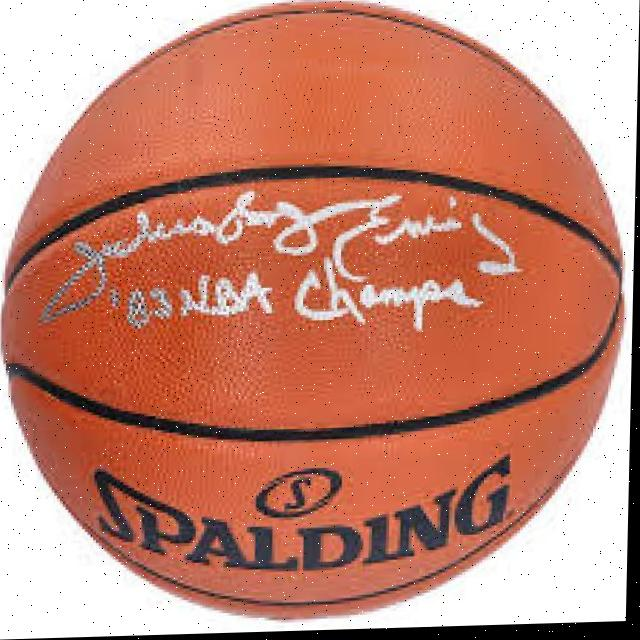Basketball: (1, 0, 629, 631)
